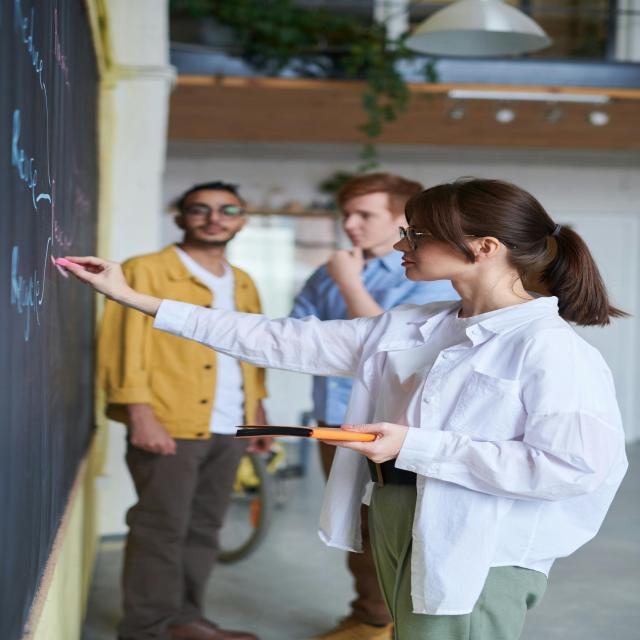stand: (367, 169, 588, 640), (286, 156, 493, 640), (94, 181, 269, 640)
